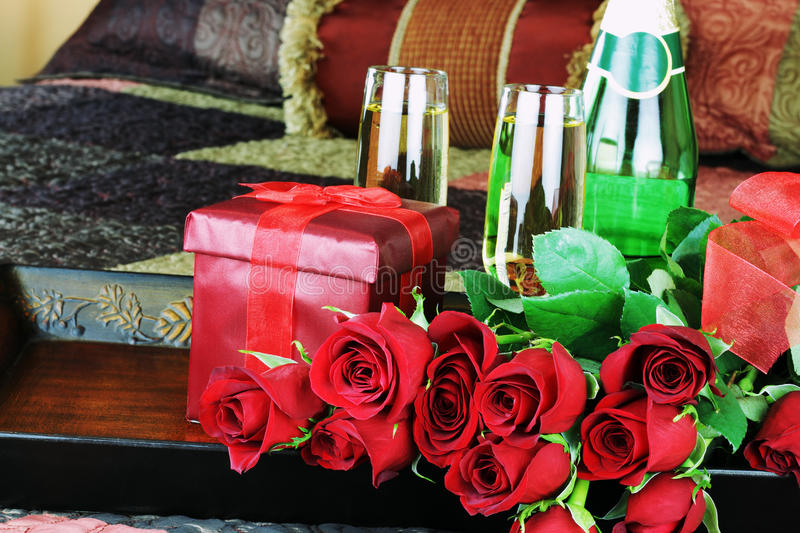RedRose: (287, 286, 438, 417), (199, 353, 320, 474), (599, 307, 731, 411), (399, 325, 485, 474), (474, 340, 592, 448), (433, 441, 587, 520), (588, 394, 704, 491)
